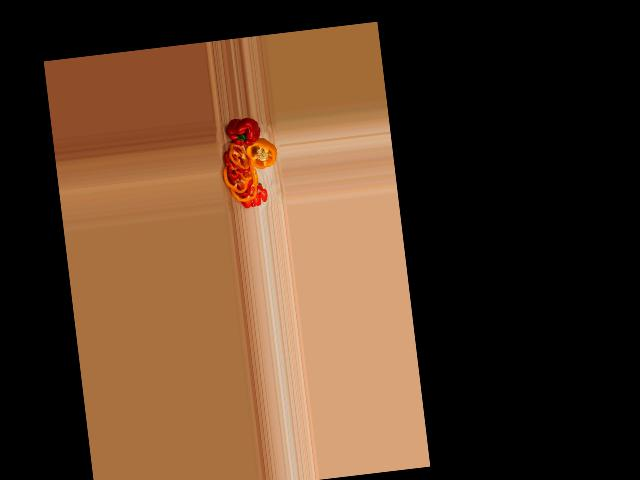bell_pepper: (245, 137, 280, 172)
